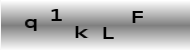1: (49, 8, 63, 23)
F: (130, 9, 145, 24)
L: (102, 25, 116, 40)
k: (74, 25, 89, 39)
q: (24, 17, 38, 32)
